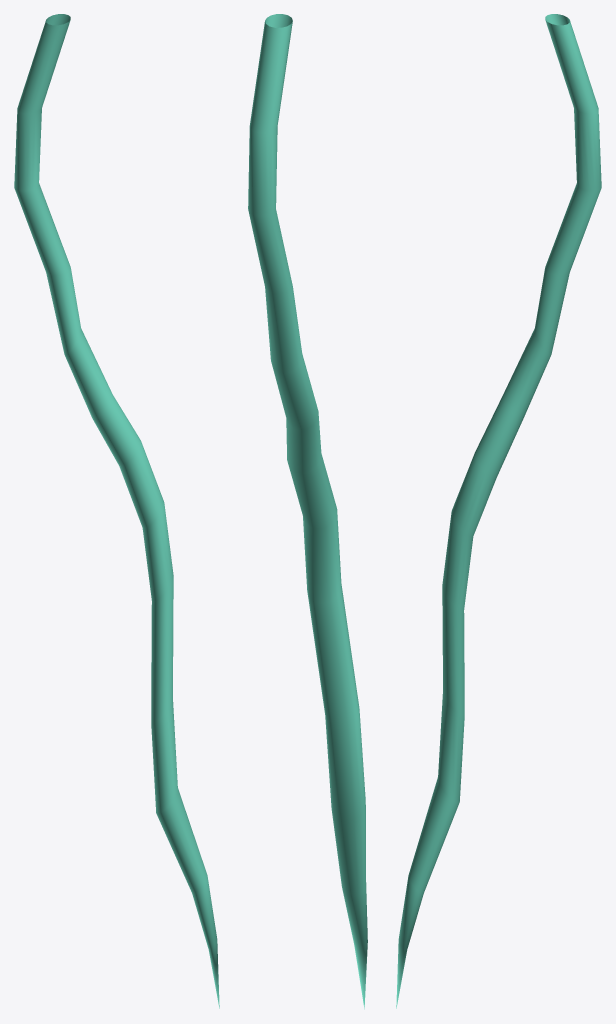
File: Cipo.fbx
3 renders of one model, left to right at view 1: azimuth 90°, elevation 25°; view 2: azimuth 150°, elevation 25°; view 3: azimuth 270°, elevation 25°, orthographic. The views are drawn at different scales.
Visible parts, largest first — view 1: Cipo; view 2: Cipo; view 3: Cipo.
Boxes of the visible parts, x1=… form: Cipo: x1=14, y1=14, x2=219, y2=1008; Cipo: x1=248, y1=14, x2=367, y2=1009; Cipo: x1=396, y1=14, x2=601, y2=1008.
Size of the model in its own units: 25.28 by 445 by 83.59.
